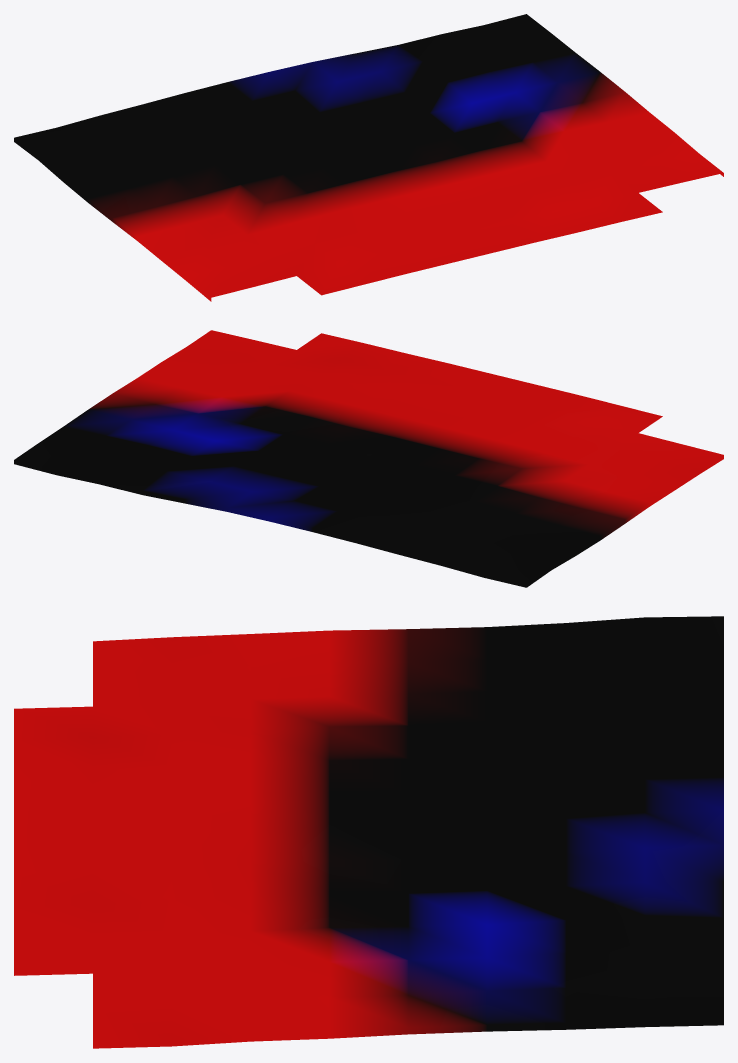
Rendered from coast_20_8.glb.
The picture shows the model from 3 angles, top to bottom: view 1: azimuth 30°, elevation 25°; view 2: azimuth 150°, elevation 25°; view 3: azimuth 270°, elevation 25°; orthographic projection. The views are drawn at different scales.
Parts seen in each view (by area): view 1: terrain; view 2: terrain; view 3: terrain.
Boxes of the visible parts, box(x1,y1,x2,y2) form: terrain: box(14, 14, 723, 301); terrain: box(14, 330, 723, 587); terrain: box(14, 616, 723, 1048).
Size of the model in its own units: 192 by 8.48 by 144.
